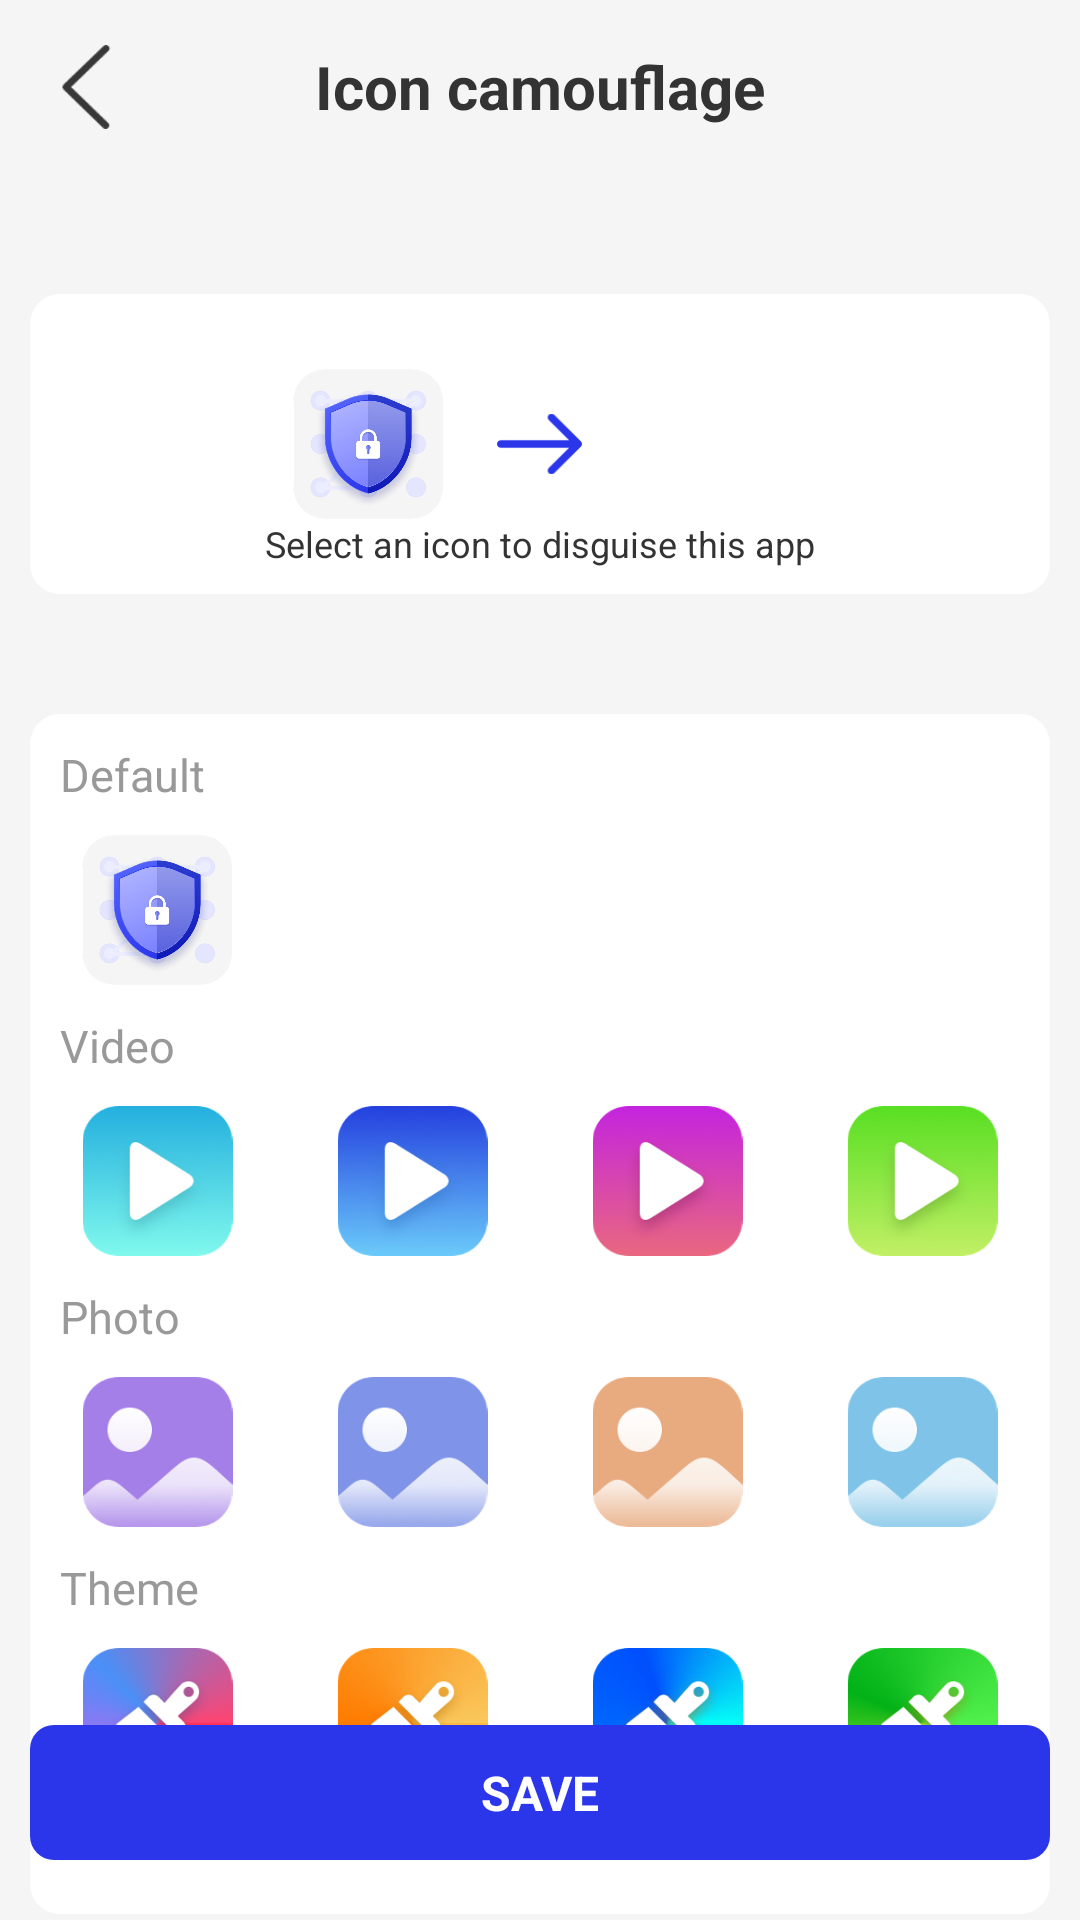

Named icons in this screenshot (1080px×1920px) and their centers, (x=x, y=y):
back: (x=86, y=87)
